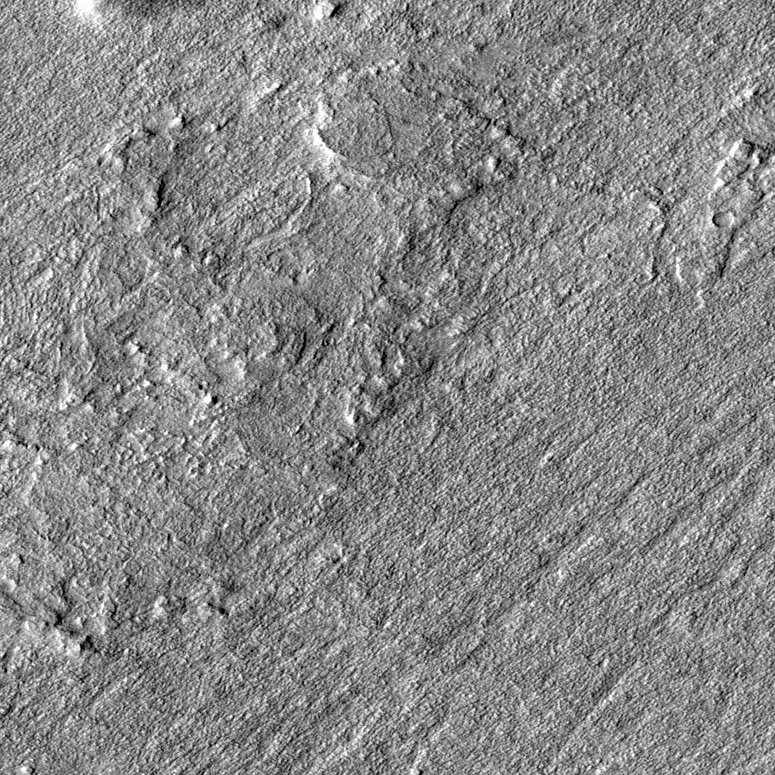dust_devil: (69, 1, 211, 23)
